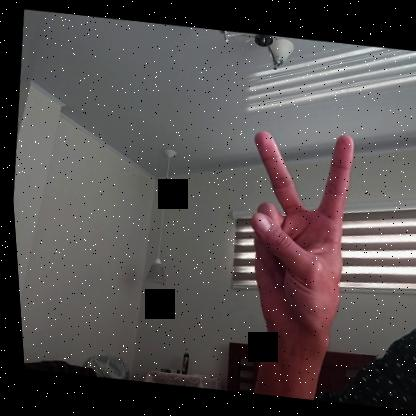V: (224, 119, 363, 360)
